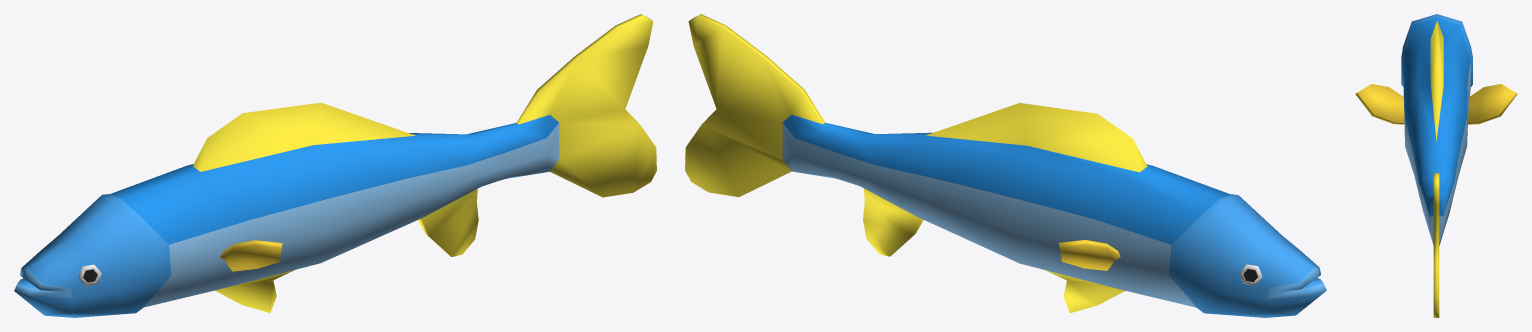
File: Fish_029.glb
The picture shows the model from 3 angles, left to right: view 1: azimuth 30°, elevation 25°; view 2: azimuth 150°, elevation 25°; view 3: azimuth 270°, elevation 25°; orthographic projection. The views are drawn at different scales.
Visible parts, largest first — view 1: Fish_029; view 2: Fish_029; view 3: Fish_029.
Boxes of the visible parts, x1=… form: Fish_029: x1=14, y1=14, x2=656, y2=317; Fish_029: x1=685, y1=14, x2=1326, y2=317; Fish_029: x1=1355, y1=14, x2=1517, y2=317.
Bounding box in the file's own units: 1.28 × 0.3953 × 0.3439.
1 material, 1 textured.
